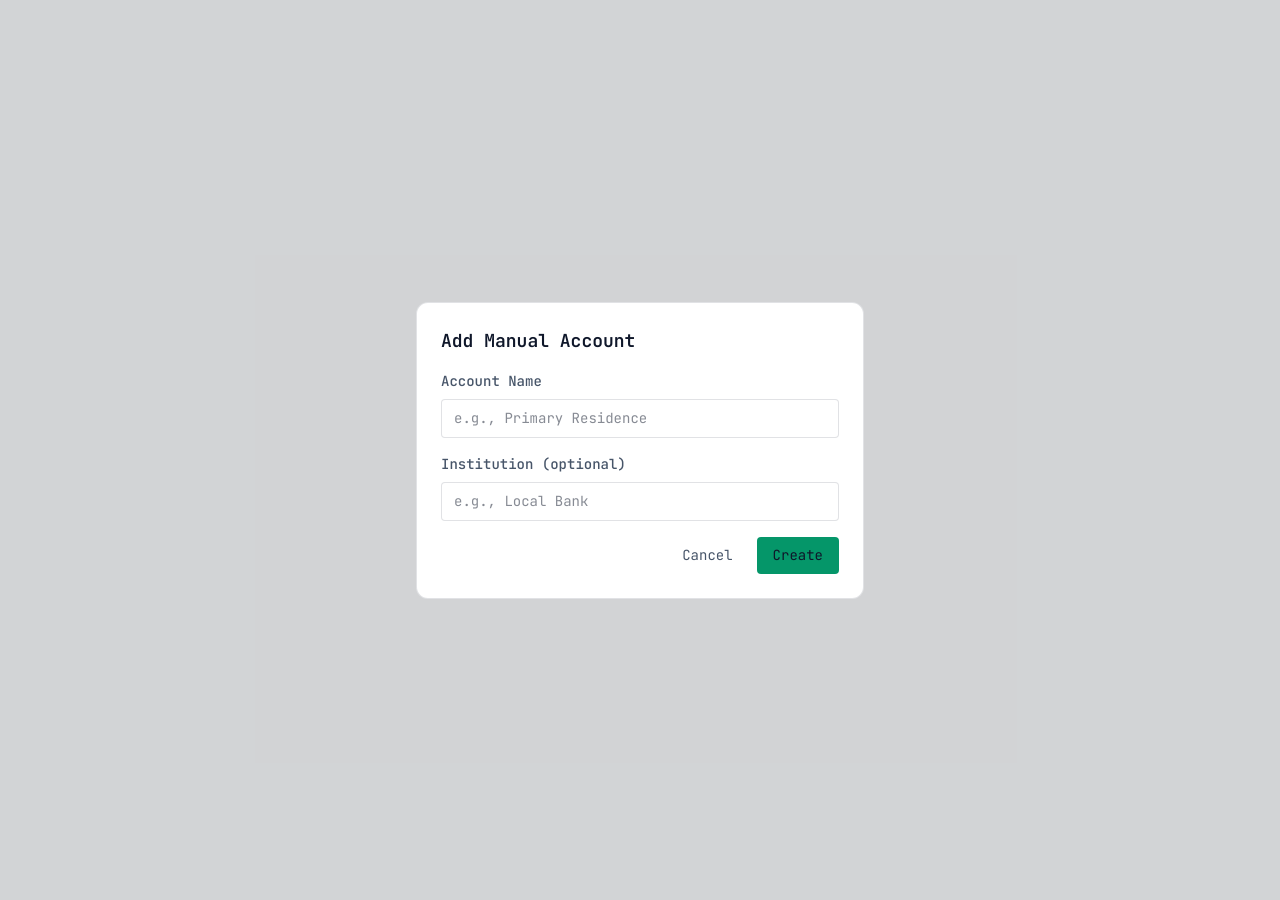
Test: CreateManualAccountModal › shows error on failure
Step 1. Type "My House" into the field with test id "manual-account-name" → (640, 418), box left=441, top=398, right=839, bottom=438
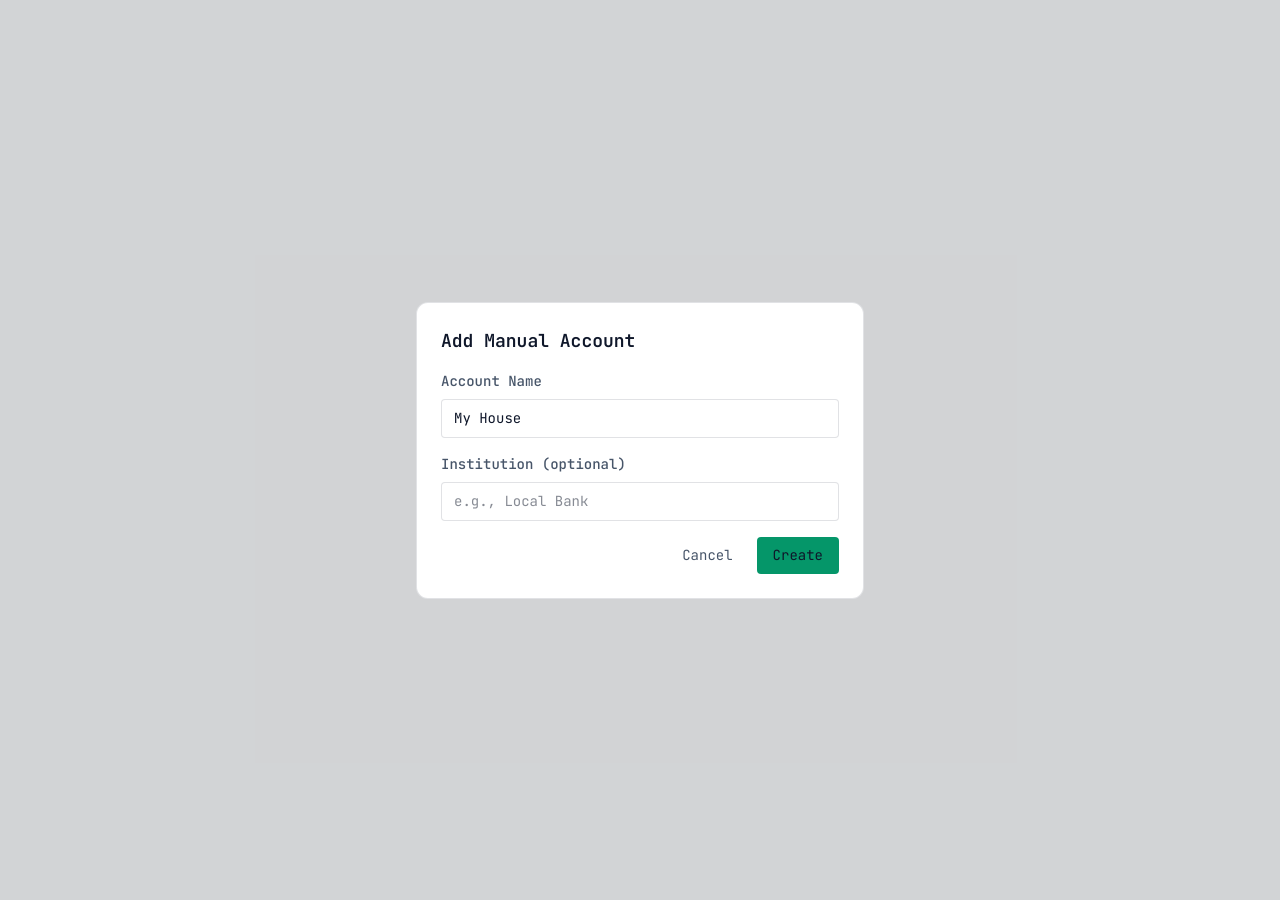
Step 2. Click the button "Create" → (798, 555), box left=757, top=536, right=839, bottom=574
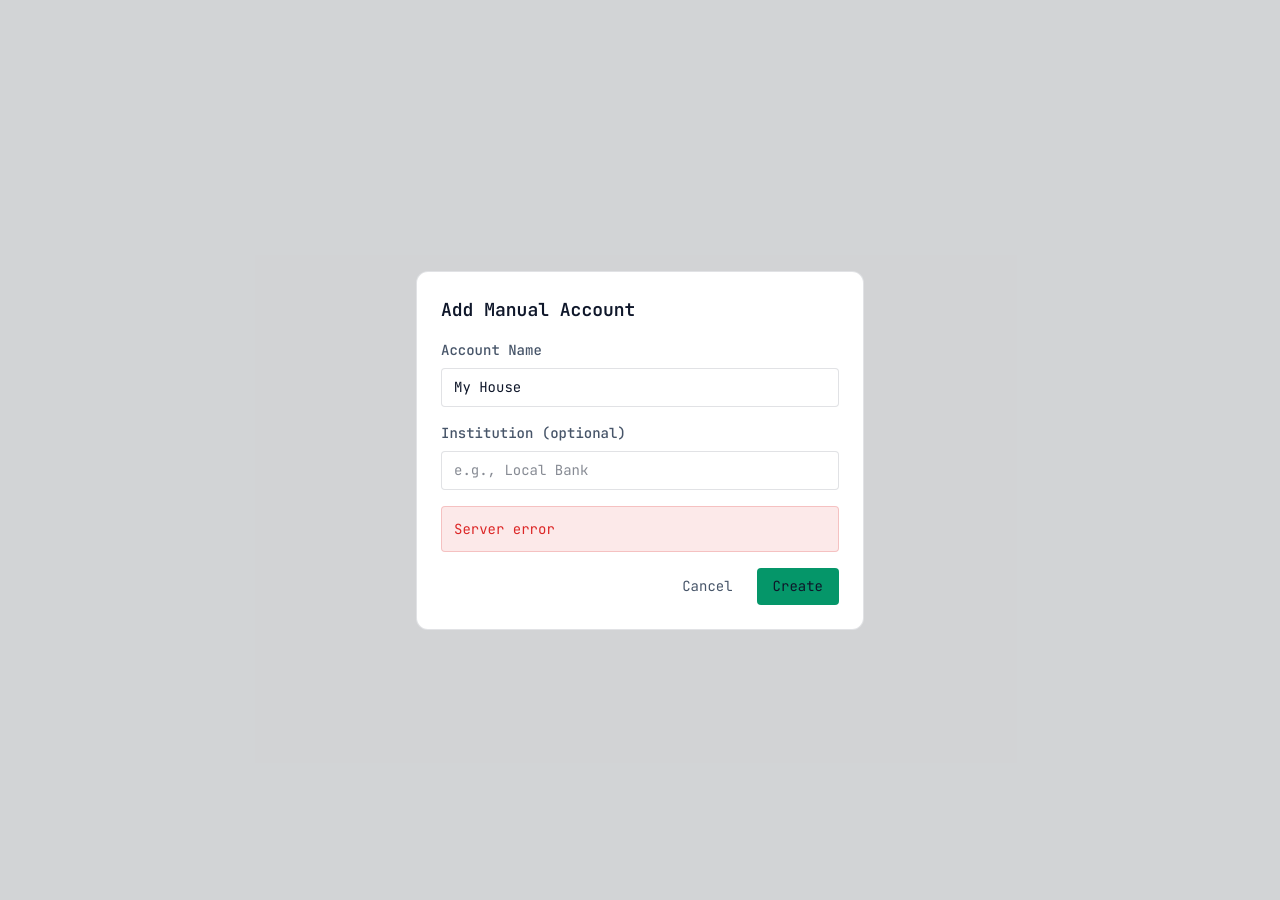
expect the text with test id "manual-account-error" reads "Server error": met, box left=454, top=520, right=555, bottom=538
